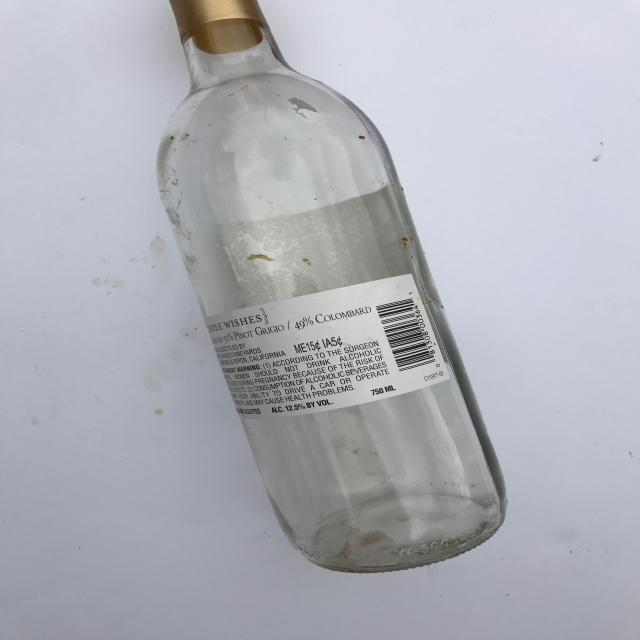Glass: (121, 0, 544, 579)
